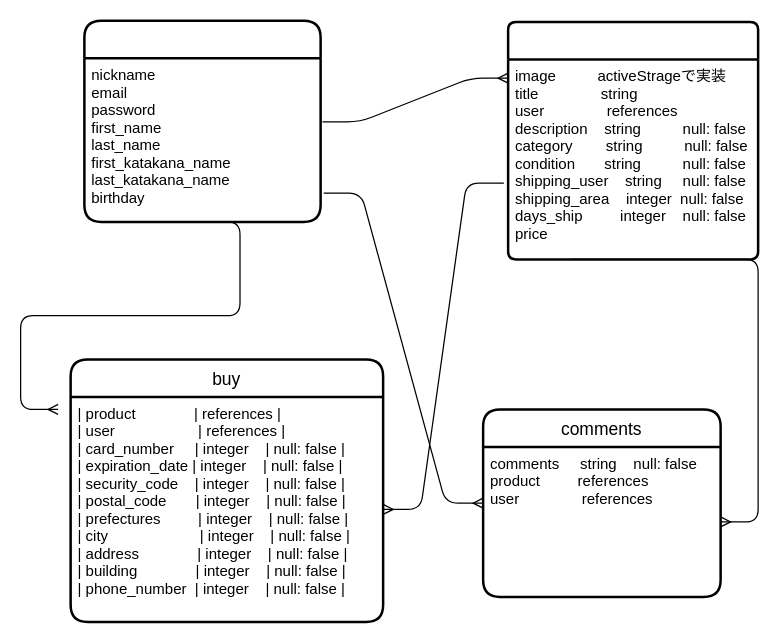
The diagram is 779 pixels wide and 643 high, and some of its shapes have lost their labels. The shapes that lost their labels are listed below. From the top down, each one's box as (x1, y1, x2, y2) in pixels, then its label:
(82, 19, 321, 222): users
(506, 20, 759, 260): products
